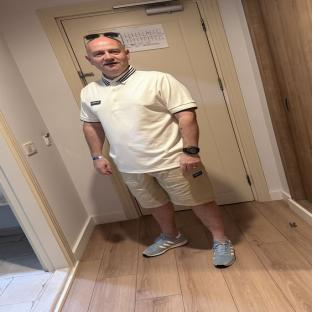Human: (80, 33, 235, 267)
